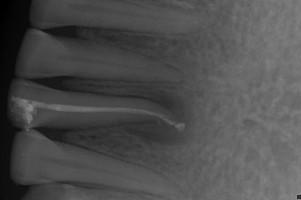Furcation Involvement: (118, 89, 197, 147)
